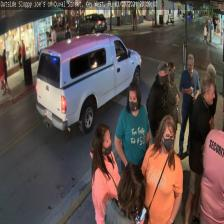person: (140, 114, 184, 224), (184, 74, 216, 224), (114, 79, 150, 207), (90, 123, 122, 223), (146, 60, 170, 178), (103, 161, 145, 223), (178, 54, 201, 158), (165, 61, 179, 166)
